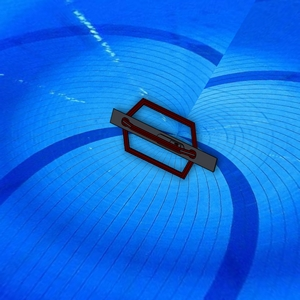submarine: (98, 73, 230, 192)
